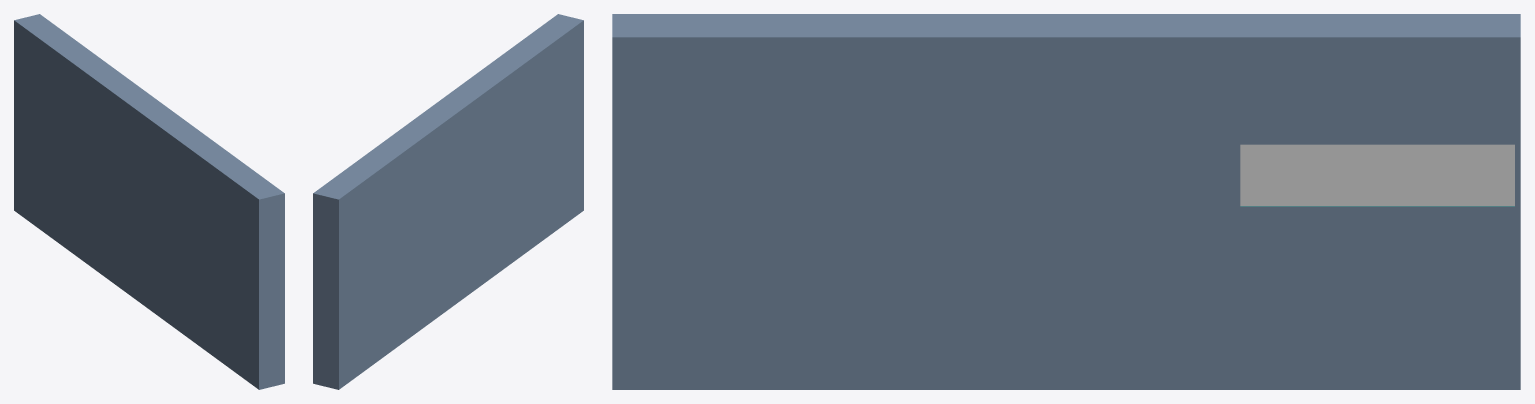
Rendered from WallModel.fbx.
3 renders of one model, left to right at view 1: azimuth 30°, elevation 25°; view 2: azimuth 150°, elevation 25°; view 3: azimuth 270°, elevation 25°, orthographic. The views are drawn at different scales.
Parts seen in each view (by area): view 1: Cube; view 2: Cube; view 3: Cube, Cube.001.
Part boxes in pixels (<box>): Cube: <box>14,14,284,389</box>; Cube: <box>313,14,583,389</box>; Cube: <box>612,14,1520,389</box>; Cube.001: <box>1240,144,1514,206</box>.
Size of the model in its own units: 848 by 6000 by 14000.
